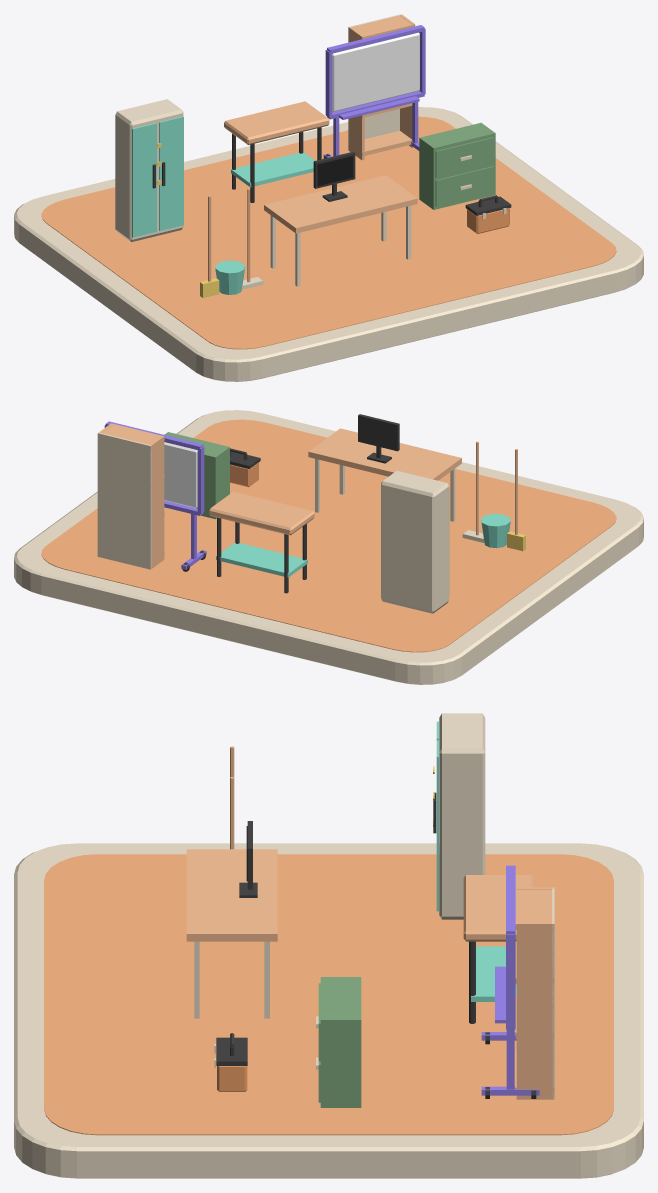
Rendered from room.fbx.
3 views of the same model, one above another, from view 1: azimuth 30°, elevation 25°; view 2: azimuth 150°, elevation 25°; view 3: azimuth 270°, elevation 25° (orthographic). The views are drawn at different scales.
Visible parts, largest first — view 1: COM-02 Floor Surface, COM-01 Rounded Base Direct, Top, Cabinet, Writing surface, Equipment case, Door, Worktop, Door.001, Lower shelf, Frame, Back (+7 smaller); view 2: COM-02 Floor Surface, COM-01 Rounded Base Direct, Equipment case, Back, Top, Worktop, Writing surface, Cabinet, Lower shelf, Side, Frame, Bucket (+4 smaller); view 3: COM-02 Floor Surface, COM-01 Rounded Base Direct, Top, Equipment case, Side.001, Cabinet, Worktop, Shelf.003, Lower shelf, Frame upright.001, Lid, Box (+2 smaller).
Part boxes in pixels (bbox=[...]): COM-02 Floor Surface: bbox=[41, 116, 616, 349]; COM-01 Rounded Base Direct: bbox=[14, 107, 643, 381]; Top: bbox=[264, 175, 417, 286]; Cabinet: bbox=[419, 122, 495, 209]; Writing surface: bbox=[332, 32, 419, 111]; Equipment case: bbox=[115, 99, 183, 241]; Door: bbox=[132, 123, 156, 237]; Worktop: bbox=[224, 101, 329, 144]; Door.001: bbox=[159, 116, 183, 230]; Lower shelf: bbox=[231, 152, 315, 187]; Frame: bbox=[313, 151, 355, 201]; Back: bbox=[348, 14, 402, 150]; COM-02 Floor Surface: bbox=[41, 419, 616, 652]; COM-01 Rounded Base Direct: bbox=[14, 410, 643, 684]; Equipment case: bbox=[381, 470, 448, 613]; Back: bbox=[97, 432, 151, 569]; Top: bbox=[308, 428, 461, 521]; Worktop: bbox=[209, 491, 314, 535]; Writing surface: bbox=[164, 442, 197, 508]; Cabinet: bbox=[164, 432, 229, 519]; Lower shelf: bbox=[216, 542, 307, 577]; Side: bbox=[149, 435, 164, 568]; Frame: bbox=[358, 414, 399, 463]; Bucket: bbox=[481, 513, 510, 548]; COM-02 Floor Surface: bbox=[44, 854, 613, 1135]; COM-01 Rounded Base Direct: bbox=[14, 843, 643, 1178]; Top: bbox=[186, 849, 277, 1018]; Equipment case: bbox=[439, 713, 485, 919]; Side.001: bbox=[516, 922, 553, 1099]; Cabinet: bbox=[316, 977, 361, 1107]; Worktop: bbox=[463, 875, 533, 941]; Shelf.003: bbox=[515, 887, 553, 930]; Lower shelf: bbox=[471, 946, 516, 1001]; Frame upright.001: bbox=[506, 934, 515, 1027]; Lid: bbox=[216, 1037, 247, 1065]; Box: bbox=[217, 1066, 247, 1091].
Size of the model in its own units: 600 by 190 by 520.
